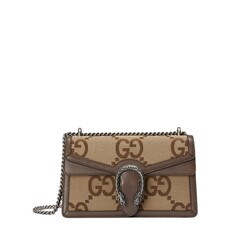Gucci: (58, 123, 203, 223), (109, 157, 149, 209), (108, 137, 149, 160)
